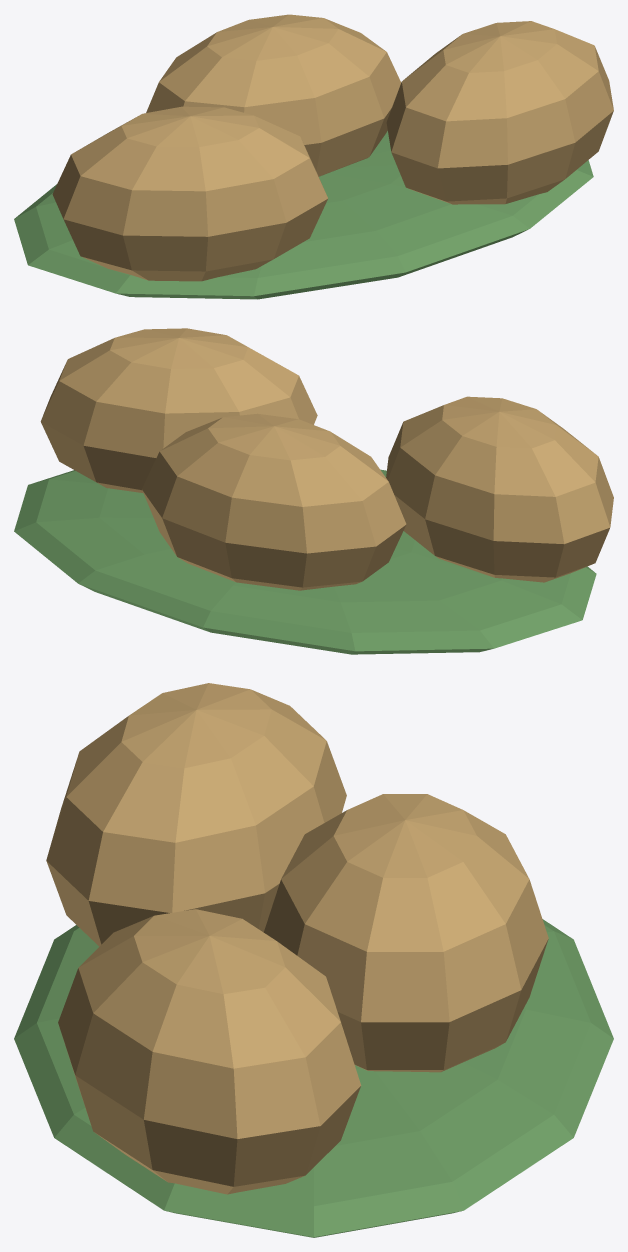
Rendered from common_seed.glb.
3 renders of one model, top to bottom at view 1: azimuth 30°, elevation 25°; view 2: azimuth 150°, elevation 25°; view 3: azimuth 270°, elevation 25°, orthographic. The views are drawn at different scales.
Parts seen in each view (by area): view 1: Icon_Sphere.001, Icon_Sphere.003, Icon_Sphere, Icon_Sphere.002; view 2: Icon_Sphere, Icon_Sphere.002, Icon_Sphere.001, Icon_Sphere.003; view 3: Icon_Sphere.003, Icon_Sphere, Icon_Sphere.002, Icon_Sphere.001.
Boxes of the visible parts, x1,y1,x2,y2 form: Icon_Sphere.001: (52, 106, 328, 281); Icon_Sphere.003: (386, 21, 613, 204); Icon_Sphere: (14, 131, 593, 299); Icon_Sphere.002: (146, 14, 401, 176); Icon_Sphere: (14, 469, 596, 654); Icon_Sphere.002: (142, 413, 406, 590); Icon_Sphere.001: (386, 396, 613, 582); Icon_Sphere.003: (40, 328, 317, 492); Icon_Sphere.003: (58, 909, 361, 1194); Icon_Sphere: (14, 919, 613, 1237); Icon_Sphere.002: (263, 794, 548, 1072); Icon_Sphere.001: (46, 683, 346, 946).
Size of the model in its own units: 0.7245 by 0.22 by 0.46.
